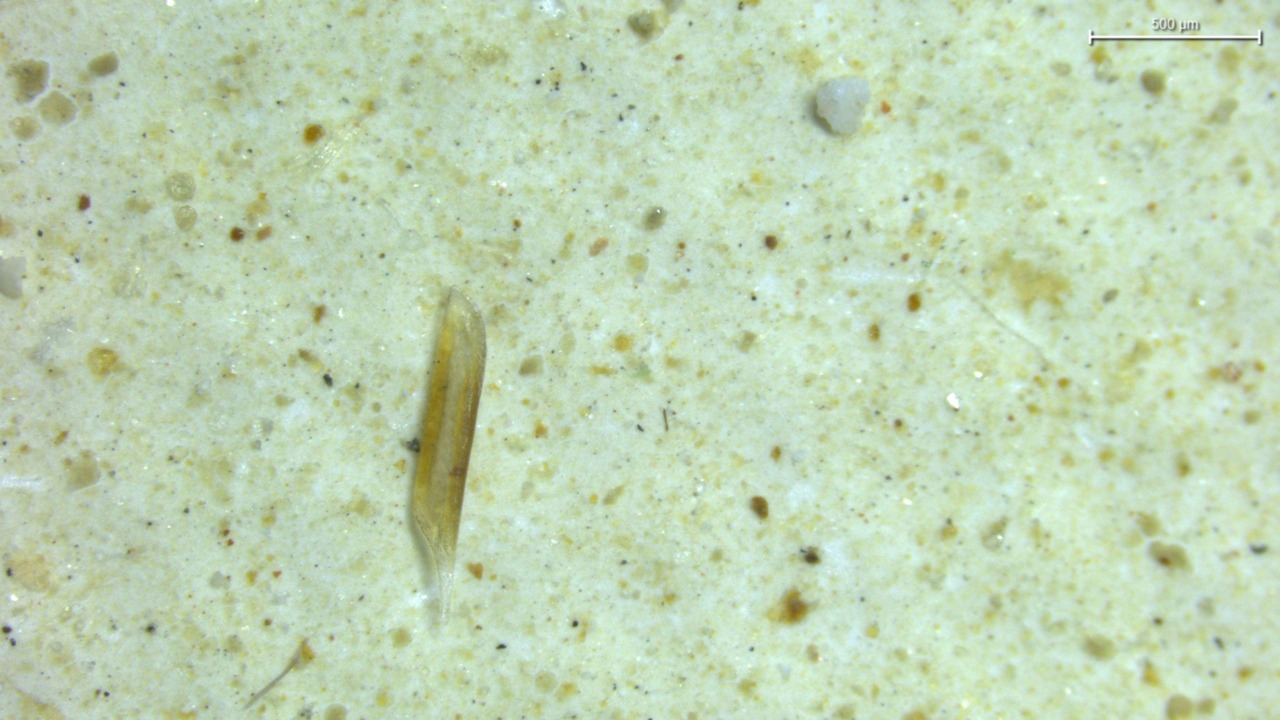microplastic_fragment: (409, 288, 485, 625), (815, 77, 869, 135)
